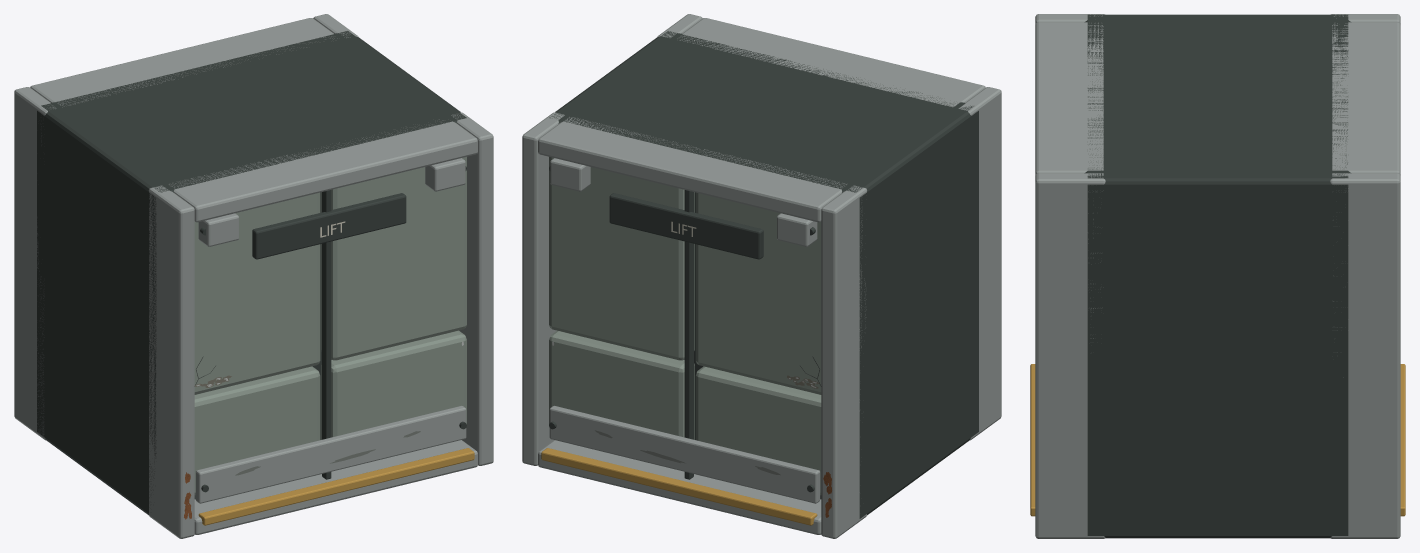
The model's file is door_lift.glb.
The picture shows the model from 3 angles, left to right: view 1: azimuth 30°, elevation 25°; view 2: azimuth 150°, elevation 25°; view 3: azimuth 270°, elevation 25°; orthographic projection. The views are drawn at different scales.
Parts seen in each view (by area): view 1: door_lift / hardware_dark_steel, door_lift / hardware_satin_steel, door_lift / hardware_sage_enamel, door_lift / hardware_safety_ochre; view 2: door_lift / hardware_dark_steel, door_lift / hardware_satin_steel, door_lift / hardware_sage_enamel, door_lift / hardware_safety_ochre; view 3: door_lift / hardware_dark_steel, door_lift / hardware_satin_steel, door_lift / hardware_safety_ochre.
Part boxes in pixels (x1=…): door_lift / hardware_dark_steel: x1=37, y1=31, x2=466, y2=515; door_lift / hardware_satin_steel: x1=14, y1=14, x2=493, y2=538; door_lift / hardware_sage_enamel: x1=194, y1=157, x2=466, y2=495; door_lift / hardware_safety_ochre: x1=198, y1=448, x2=474, y2=525; door_lift / hardware_dark_steel: x1=549, y1=31, x2=978, y2=518; door_lift / hardware_satin_steel: x1=522, y1=14, x2=1001, y2=538; door_lift / hardware_sage_enamel: x1=549, y1=157, x2=821, y2=495; door_lift / hardware_safety_ochre: x1=541, y1=448, x2=817, y2=525; door_lift / hardware_dark_steel: x1=1084, y1=14, x2=1351, y2=538; door_lift / hardware_satin_steel: x1=1035, y1=14, x2=1400, y2=538; door_lift / hardware_safety_ochre: x1=1030, y1=364, x2=1405, y2=516.
Bounding box in the file's own units: 1 × 1 × 0.945.
10 materials, 1 textured.
